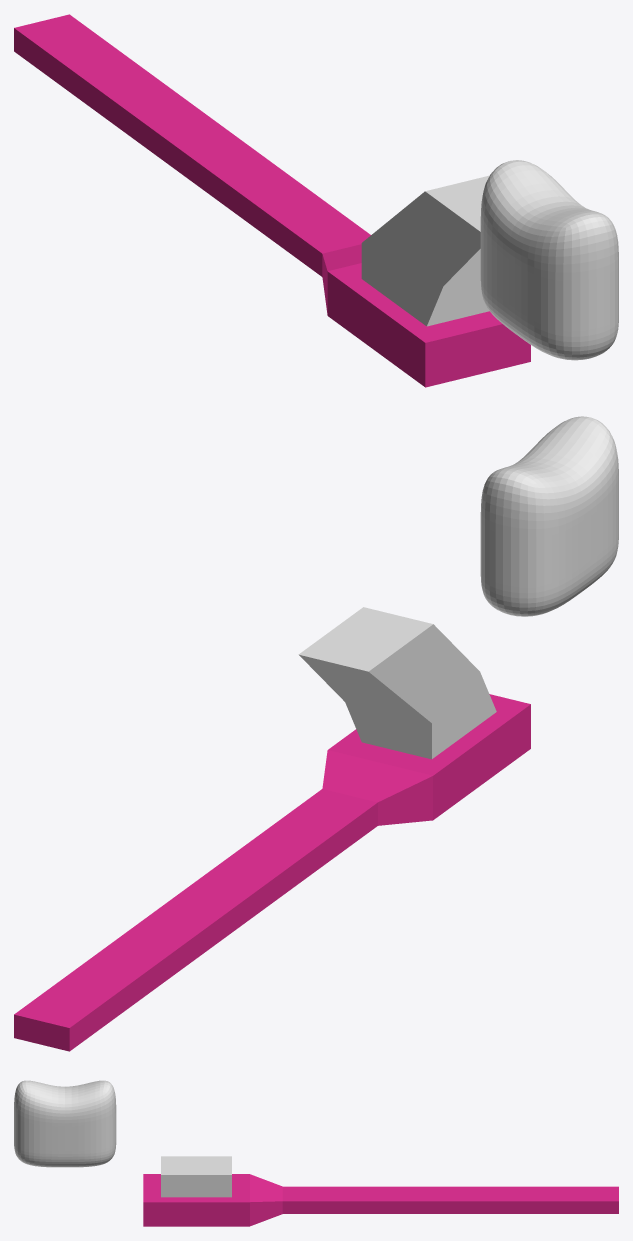
The model's file is teste_escova.glb.
The picture shows the model from 3 angles, top to bottom: view 1: azimuth 30°, elevation 25°; view 2: azimuth 150°, elevation 25°; view 3: azimuth 270°, elevation 25°; orthographic projection. The views are drawn at different scales.
Parts seen in each view (by area): view 1: escova, dente; view 2: escova, dente; view 3: escova, dente.
Boxes of the visible parts, <box> form: escova: <box>14,14,530,387</box>; dente: <box>480,160,618,360</box>; escova: <box>14,607,530,1051</box>; dente: <box>480,416,618,616</box>; escova: <box>143,1156,618,1226</box>; dente: <box>14,1080,116,1167</box>.
Size of the model in its own units: 1.78 by 2.69 by 11.34.
